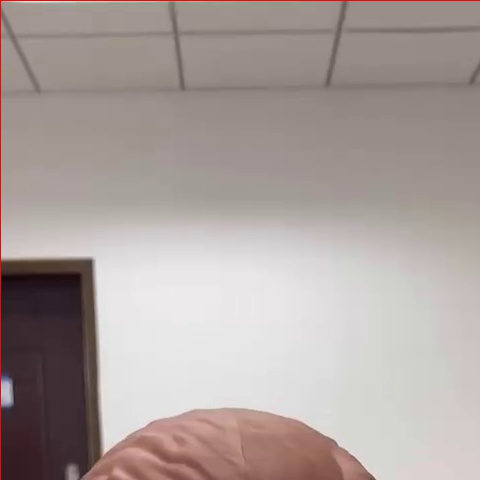farm: (135, 191, 350, 463)
